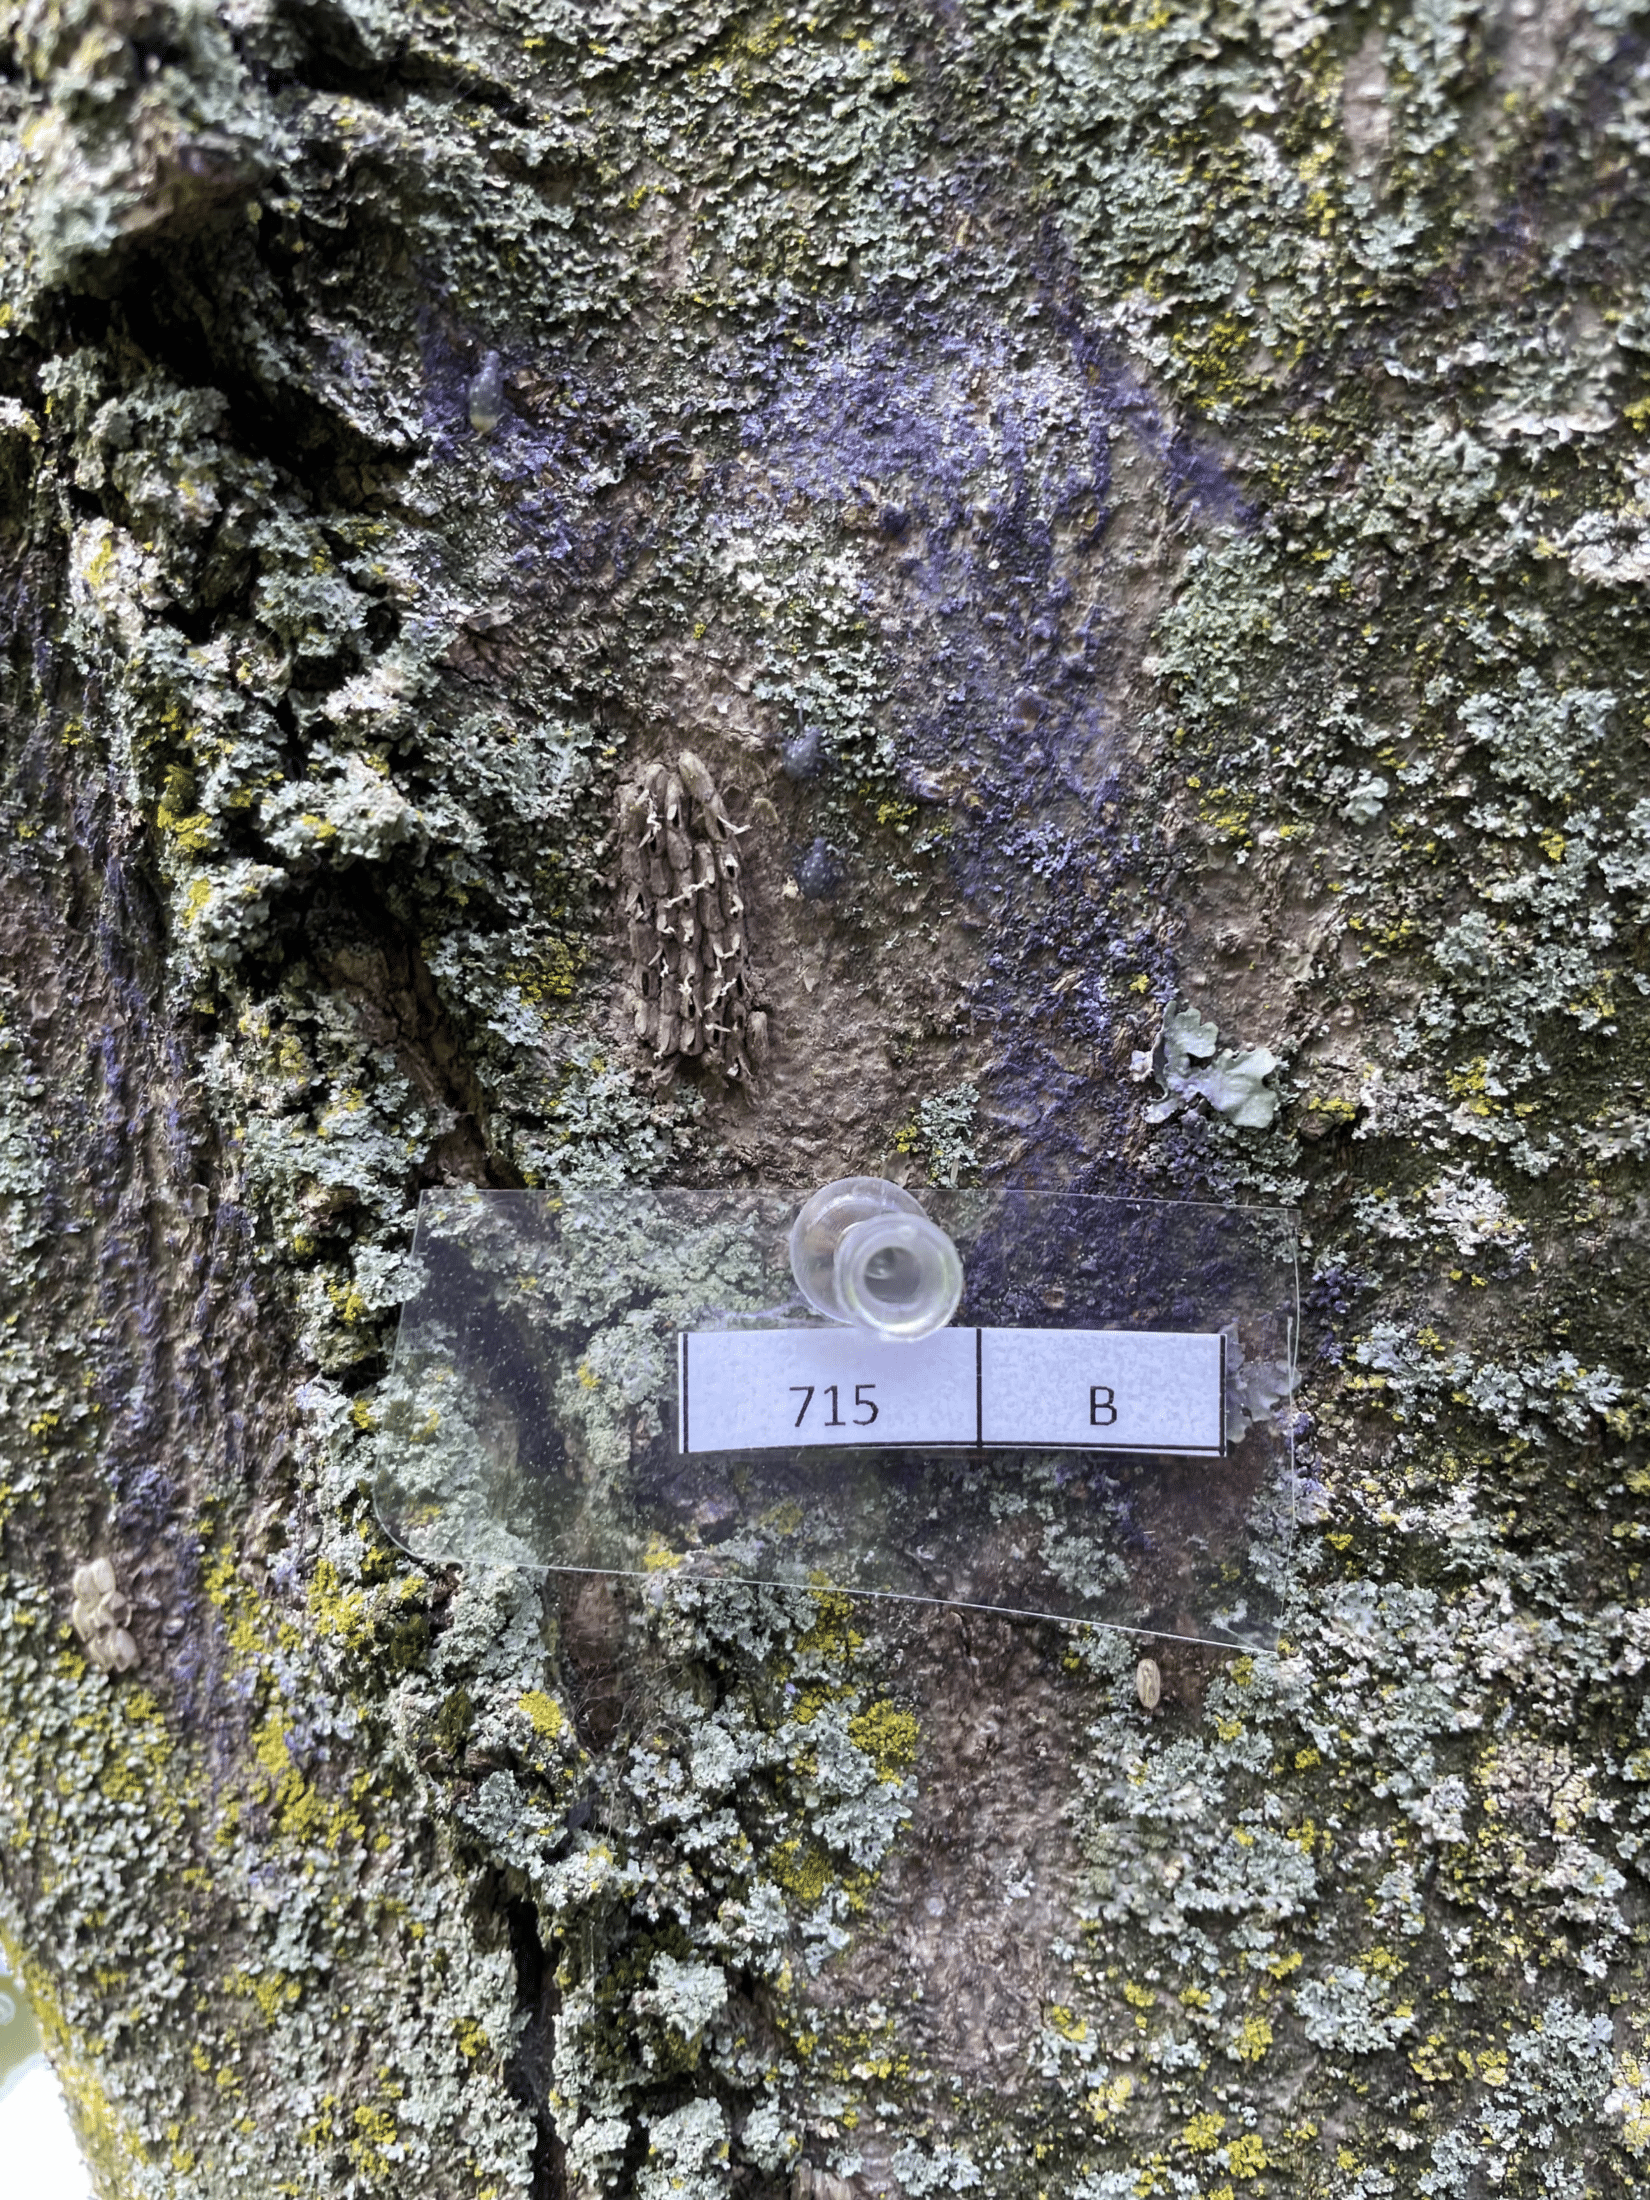egg masses: (542, 736, 804, 1114)
